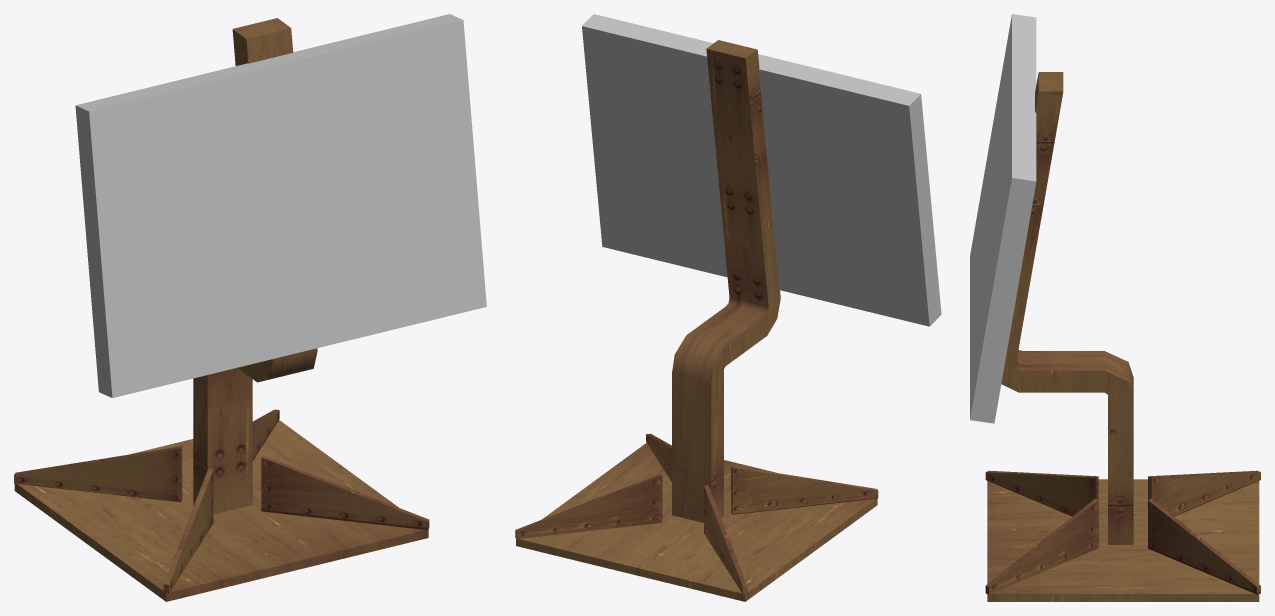
Rendered from tablichka.fbx.
3 views of the same model, side by side, from view 1: azimuth 30°, elevation 25°; view 2: azimuth 150°, elevation 25°; view 3: azimuth 270°, elevation 25° (orthographic). The views are drawn at different scales.
Parts seen in each view (by area): view 1: tablichka, support; view 2: tablichka, support; view 3: support, tablichka.
Part boxes in pixels (x1=…): tablichka: x1=75, y1=14, x2=486, y2=397; support: x1=14, y1=18, x2=429, y2=601; tablichka: x1=582, y1=14, x2=941, y2=326; support: x1=515, y1=40, x2=878, y2=601; support: x1=985, y1=72, x2=1260, y2=601; tablichka: x1=970, y1=14, x2=1036, y2=423.
Bounding box in the file's own units: 9.26 × 12.18 × 6.94.
